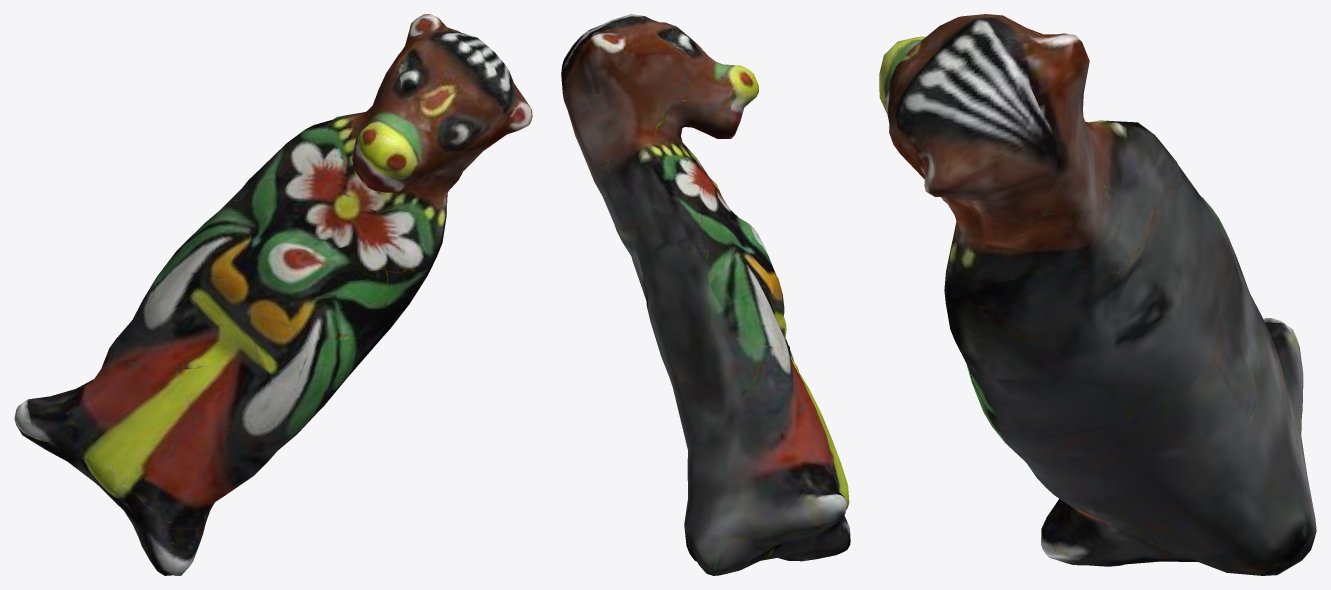
File: hall.glb
3 views of the same model, side by side, from view 1: azimuth 30°, elevation 25°; view 2: azimuth 150°, elevation 25°; view 3: azimuth 270°, elevation 25° (orthographic). The views are drawn at different scales.
Size of the model in its own units: 0.7434 by 0.8954 by 0.5031.
1 material, 1 textured.
